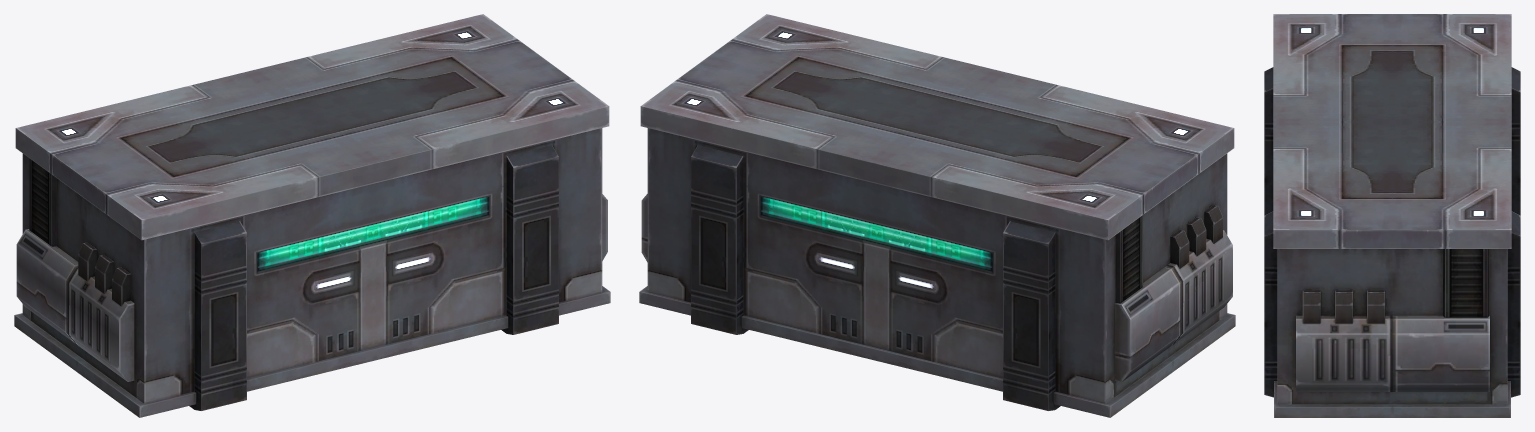
File: item_con_plasteel_crate_02.glb
The picture shows the model from 3 angles, left to right: view 1: azimuth 30°, elevation 25°; view 2: azimuth 150°, elevation 25°; view 3: azimuth 270°, elevation 25°; orthographic projection. The views are drawn at different scales.
Parts seen in each view (by area): view 1: item_con_plasteel_crate_02; view 2: item_con_plasteel_crate_02; view 3: item_con_plasteel_crate_02.
Part boxes in pixels (x1=…): item_con_plasteel_crate_02: x1=14, y1=14, x2=610, y2=417; item_con_plasteel_crate_02: x1=639, y1=14, x2=1235, y2=417; item_con_plasteel_crate_02: x1=1264, y1=14, x2=1520, y2=417.
Bounding box in the file's own units: 0.25 × 0.1001 × 0.12.
Materials: 1 (1 with a texture image).
